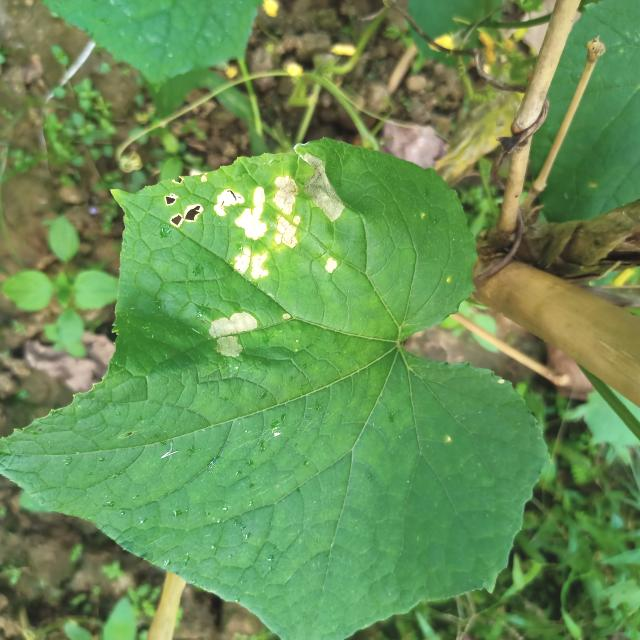disease_cucumber: (161, 152, 350, 285), (206, 303, 263, 364)
